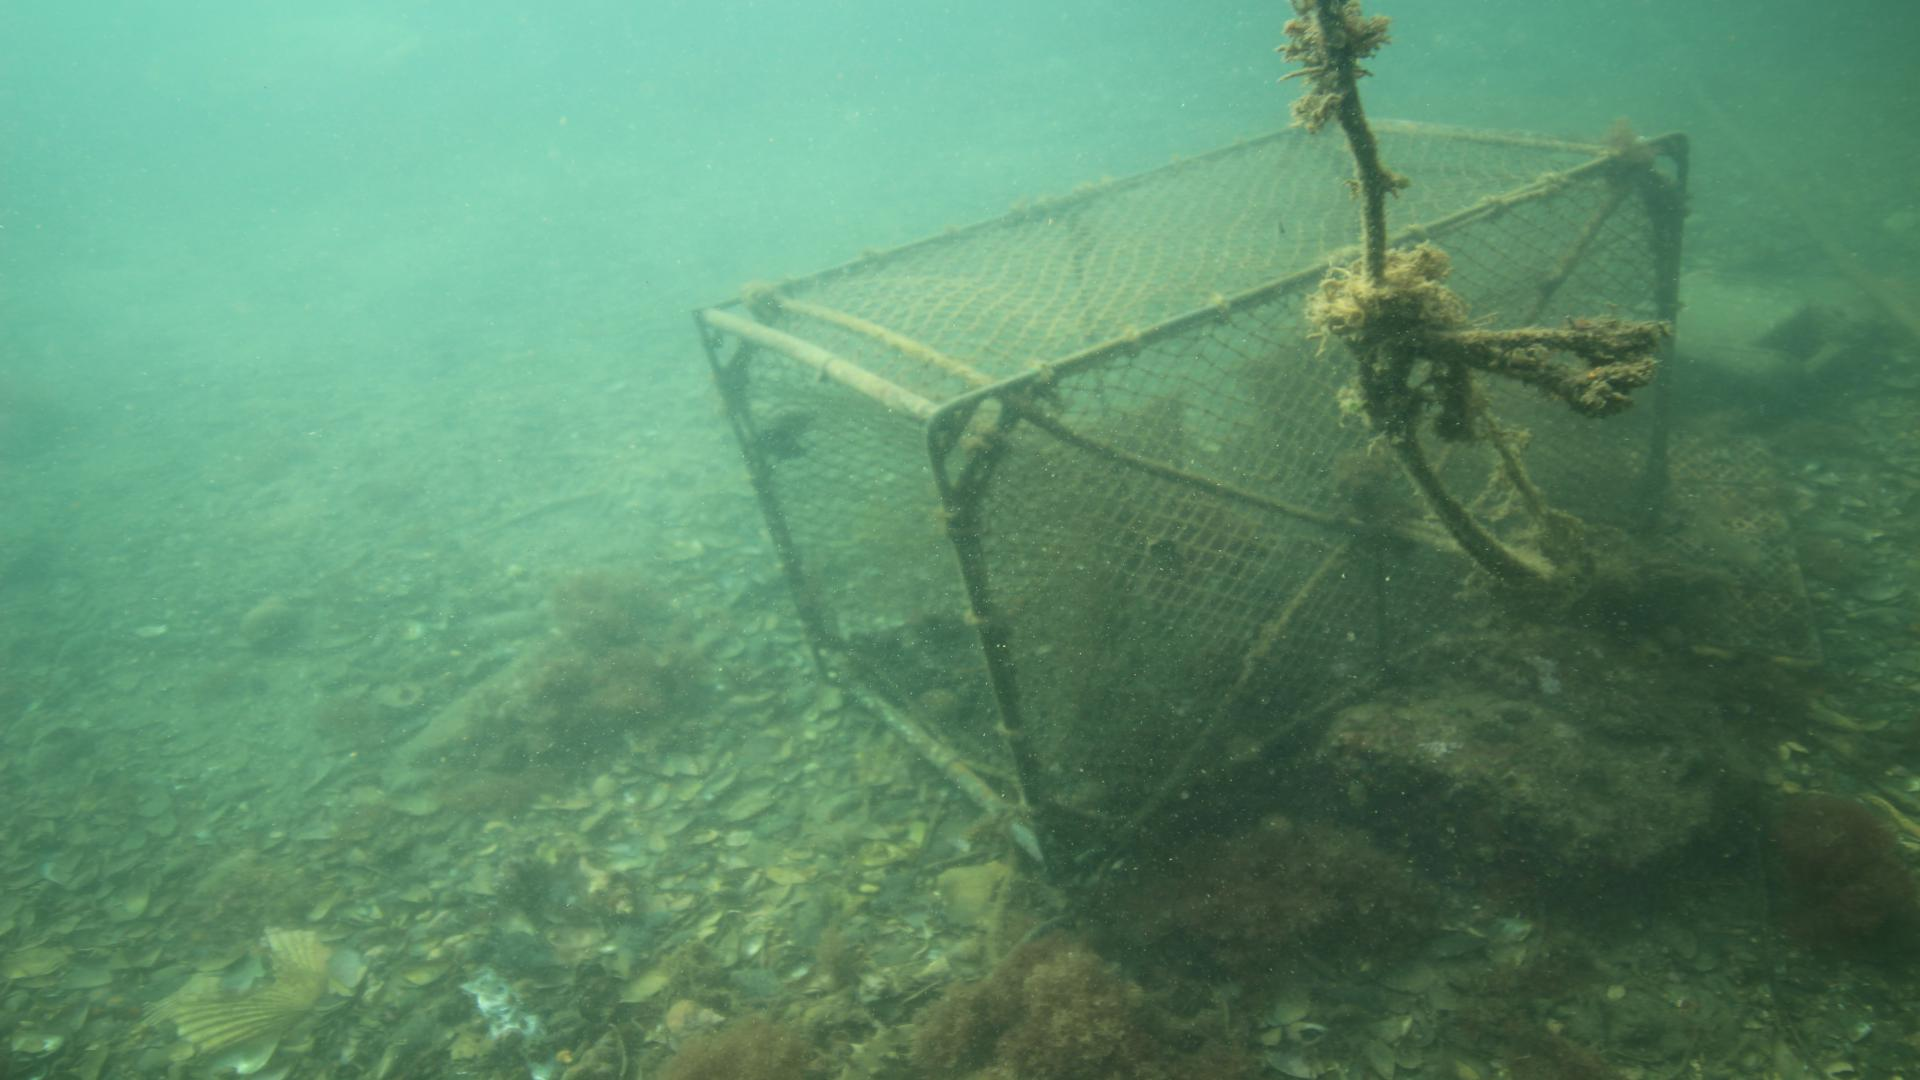bundle of ropes: (1317, 0, 1578, 585)
rectangular fish trap: (688, 115, 1701, 876)
